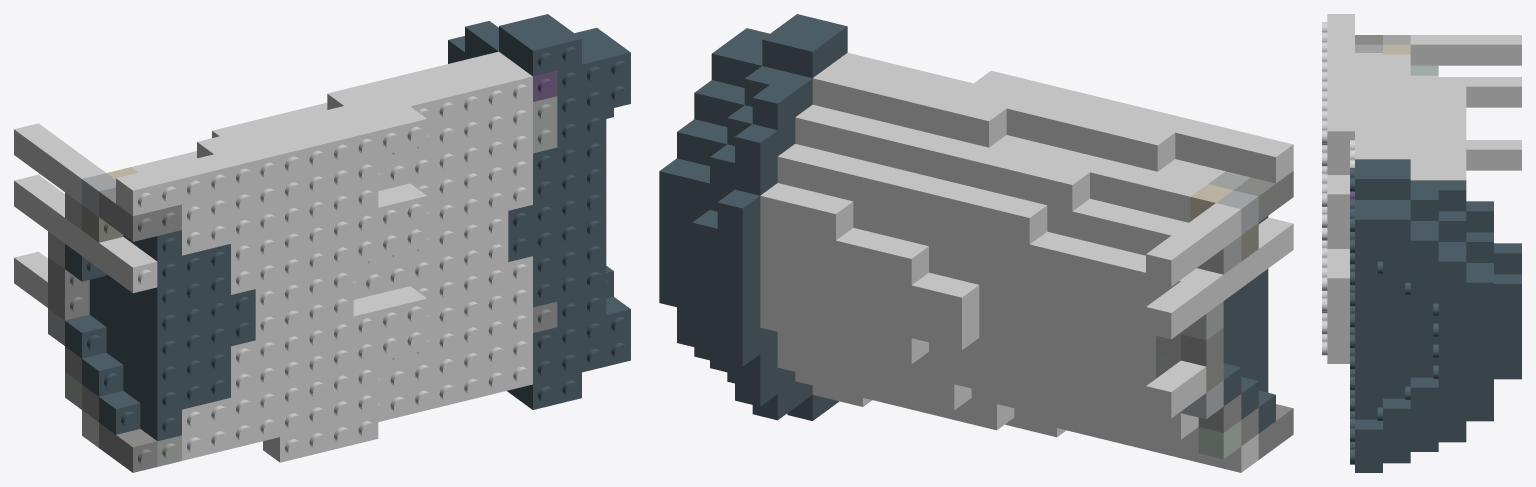
Rendered from full.glb.
3 renders of one model, left to right at view 1: azimuth 30°, elevation 25°; view 2: azimuth 150°, elevation 25°; view 3: azimuth 270°, elevation 25°, orthographic. The views are drawn at different scales.
Parts seen in each view (by area): view 1: world; view 2: world; view 3: world.
Part boxes in pixels (<box>): world: <box>14,14,630,472</box>; world: <box>659,14,1293,472</box>; world: <box>1322,14,1521,472</box>.
Size of the model in its own units: 168 by 112 by 69.
